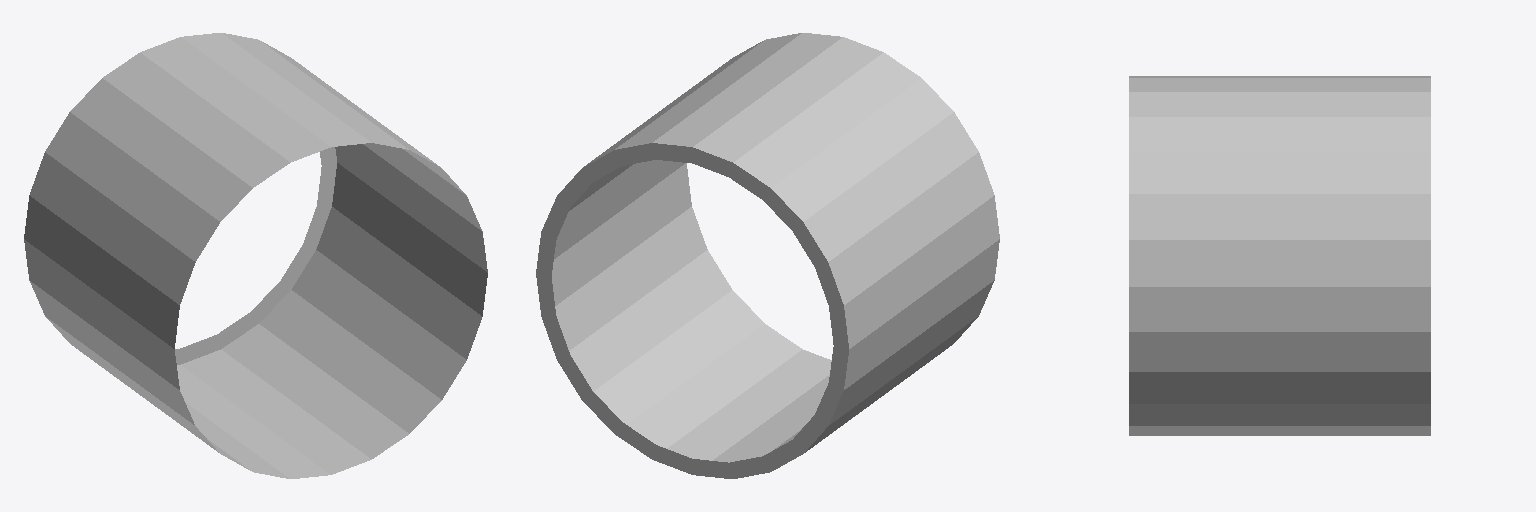
The model's file is original-3.obj.
The picture shows the model from 3 angles: view 1: azimuth 30°, elevation 25°; view 2: azimuth 150°, elevation 25°; view 3: azimuth 270°, elevation 25°; orthographic projection.
Visible parts, largest first — view 1: #ID55; view 2: #ID55; view 3: #ID55.
Boxes of the visible parts, <box> form: #ID55: <box>24,33,487,478</box>; #ID55: <box>536,33,999,478</box>; #ID55: <box>1129,76,1430,435</box>.
Bounding box in the file's own units: 0.0712 × 0.0712 × 0.0593.